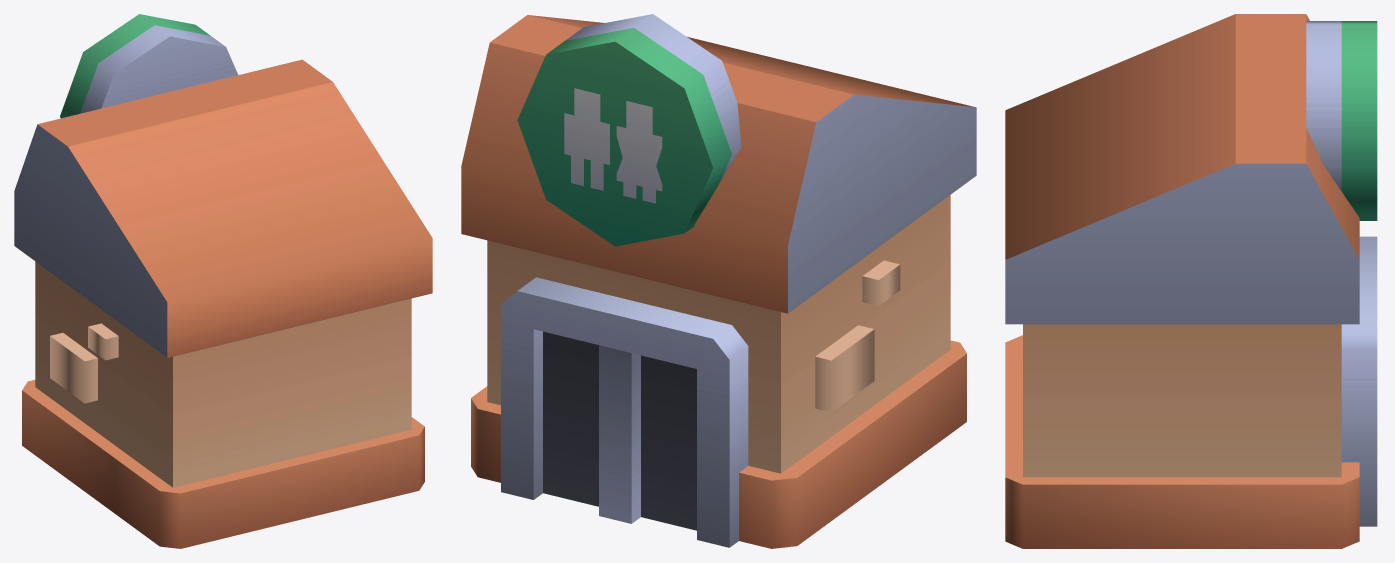
File: bajamaja.glb
3 views of the same model, side by side, from view 1: azimuth 30°, elevation 25°; view 2: azimuth 150°, elevation 25°; view 3: azimuth 270°, elevation 25° (orthographic). The views are drawn at different scales.
Parts seen in each view (by area): view 1: stall-toilets; view 2: stall-toilets; view 3: stall-toilets.
Boxes of the visible parts, box(x1,y1,x2,y2) form: stall-toilets: box(14, 14, 432, 548); stall-toilets: box(461, 14, 976, 548); stall-toilets: box(1005, 14, 1377, 548).
Bounding box in the file's own units: 1 × 1.4 × 1.06.
1 material, 1 textured.
